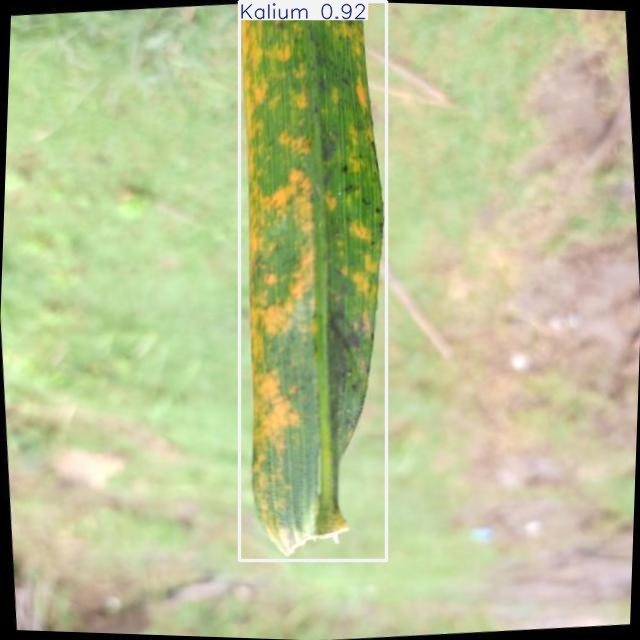Kalium: (239, 2, 386, 561)
